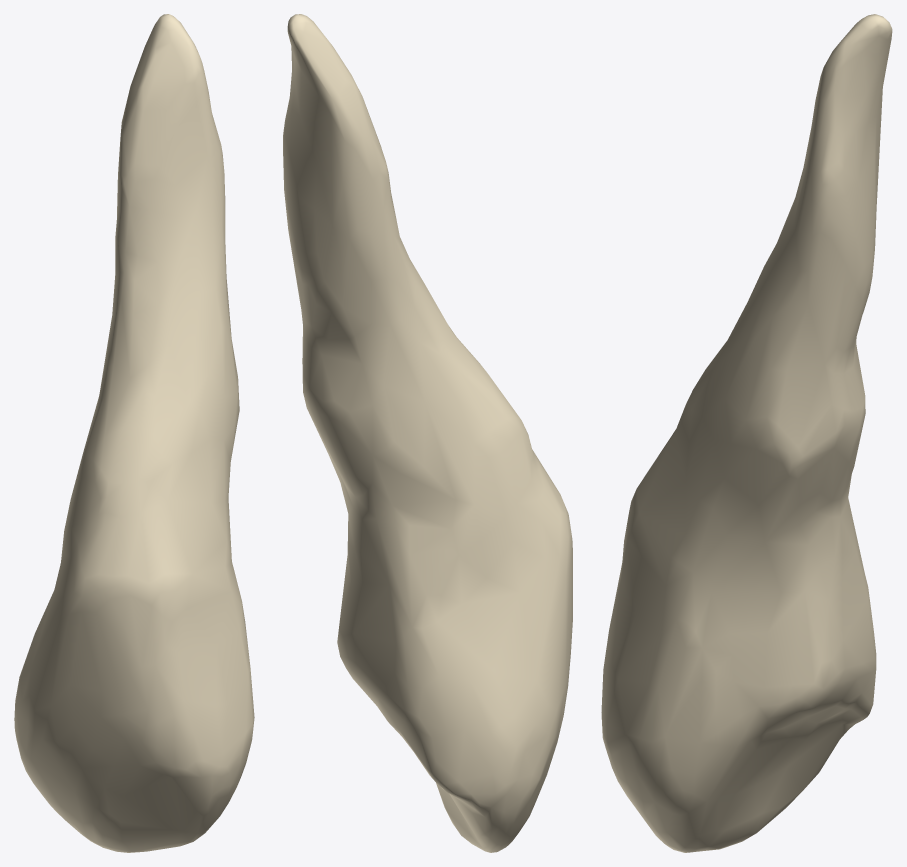
File: tooth-13.glb
The picture shows the model from 3 angles, left to right: view 1: azimuth 30°, elevation 25°; view 2: azimuth 150°, elevation 25°; view 3: azimuth 270°, elevation 25°; orthographic projection. The views are drawn at different scales.
Parts seen in each view (by area): view 1: tooth-13; view 2: tooth-13; view 3: tooth-13.
Boxes of the visible parts, box(x1,y1,x2,y2) form: tooth-13: box(14, 14, 254, 852); tooth-13: box(283, 14, 572, 852); tooth-13: box(601, 14, 892, 852).
Size of the model in its own units: 0.2314 by 0.7845 by 0.233.
